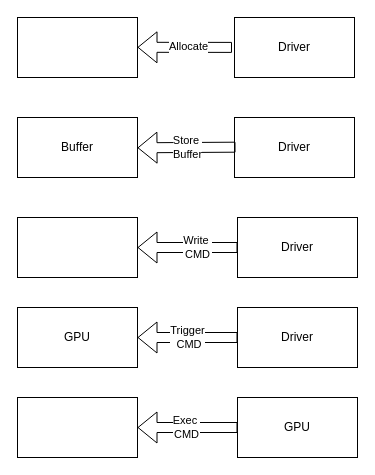
The diagram is 375 pixels wide and 475 high, and some of its shapes have lost their labels. The centre of each missing label's shape, as x and y in pixels:
"Context" belongs at point (77, 427).
"Ring Buffer" belongs at point (77, 247).
"VRAM" belongs at point (77, 47).
